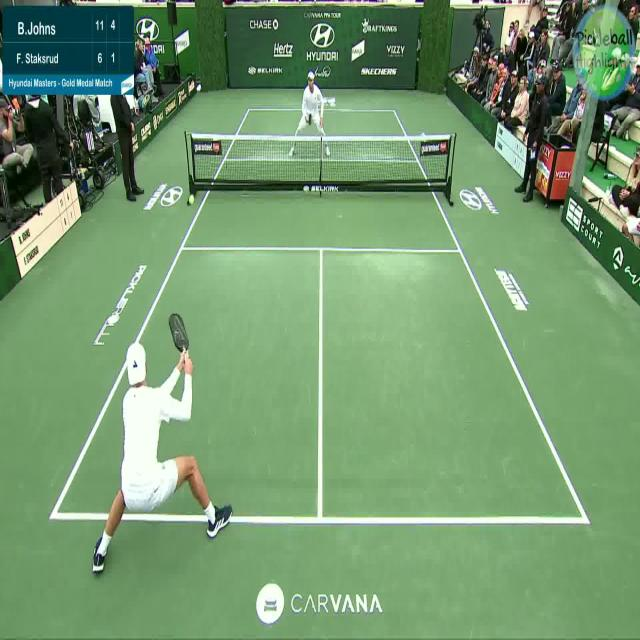ball: (187, 191, 196, 212)
